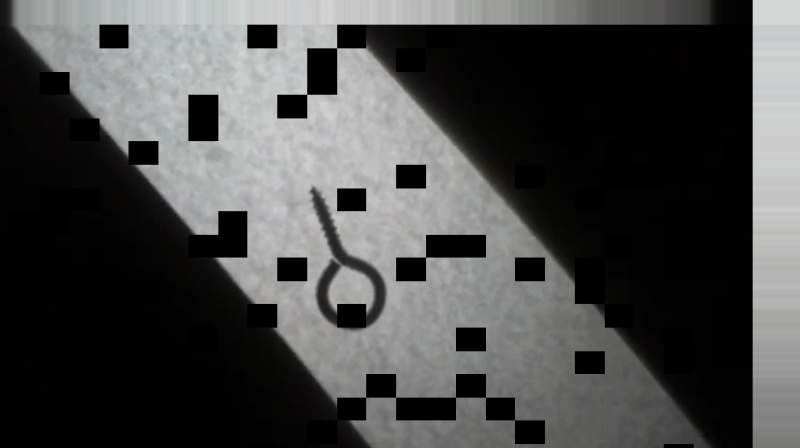O001: (306, 182, 391, 332)
